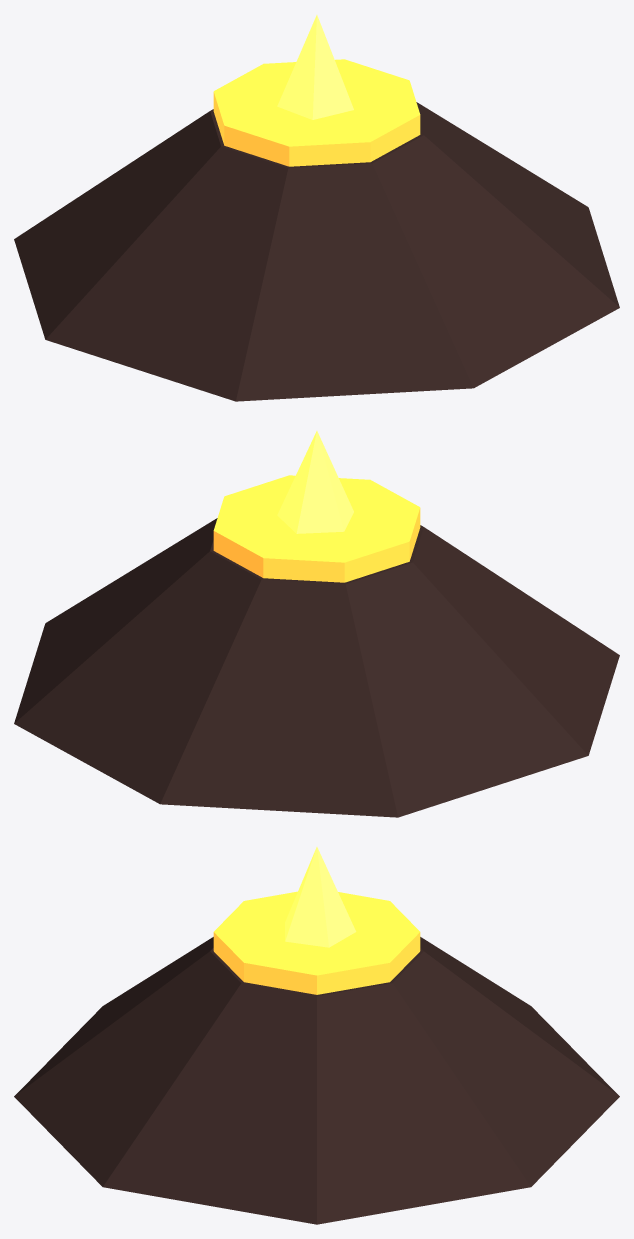
The model's file is ember_vent.glb.
The picture shows the model from 3 angles, top to bottom: view 1: azimuth 30°, elevation 25°; view 2: azimuth 150°, elevation 25°; view 3: azimuth 270°, elevation 25°; orthographic projection. The views are drawn at different scales.
Parts seen in each view (by area): view 1: ember_vent; view 2: ember_vent; view 3: ember_vent.
Boxes of the visible parts, x1,y1,x2,y2 form: ember_vent: [14, 15, 619, 401]; ember_vent: [14, 431, 619, 817]; ember_vent: [14, 847, 619, 1224].
Bounding box in the file's own units: 3.4 × 1.55 × 3.4.
